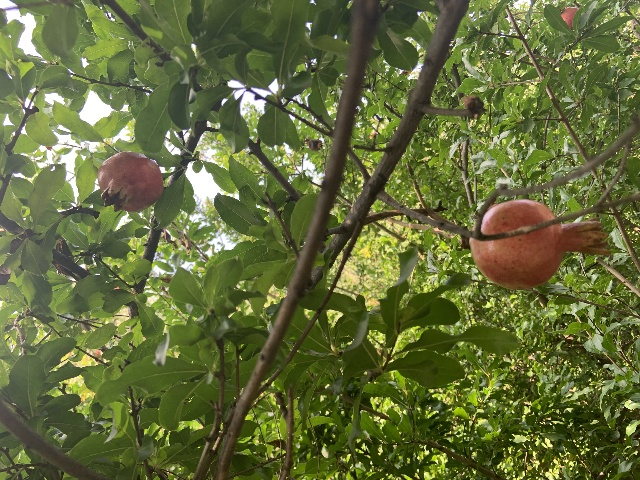ripe: (471, 200, 610, 287), (97, 151, 163, 212), (561, 6, 578, 30)
